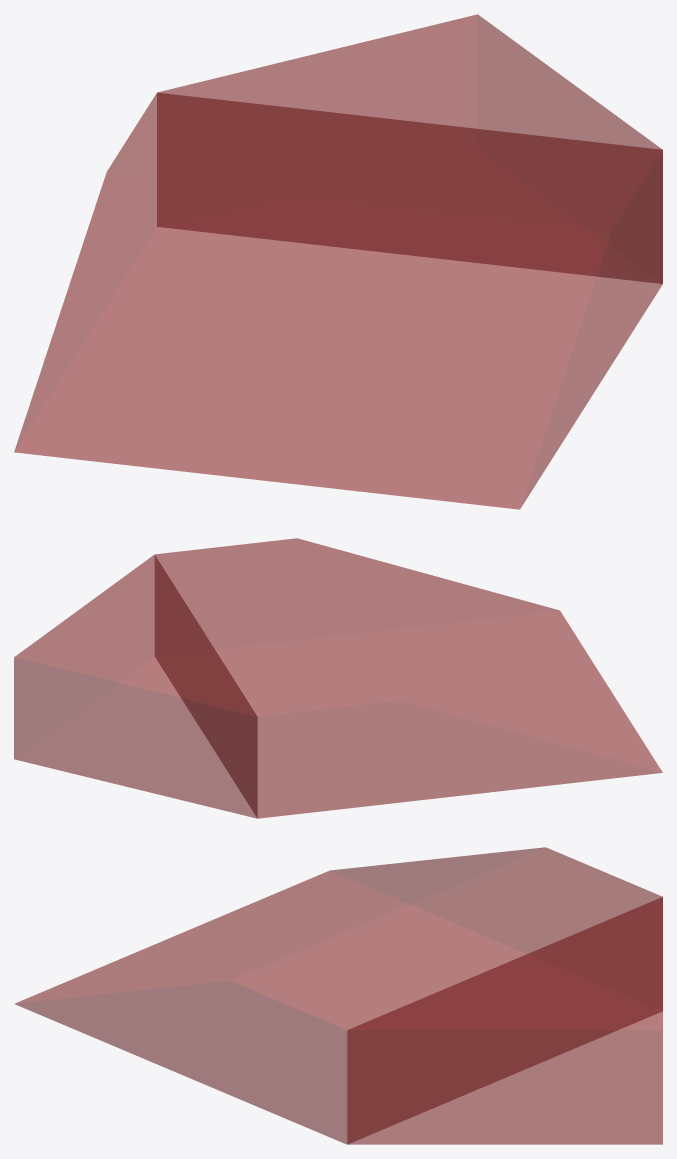
Rendered from SM_Bld_Steps_01_Angled_Inner_01_Collision.fbx.
3 renders of one model, top to bottom at view 1: azimuth 30°, elevation 25°; view 2: azimuth 150°, elevation 25°; view 3: azimuth 270°, elevation 25°, orthographic. The views are drawn at different scales.
Visible parts, largest first — view 1: SM_Bld_Steps_01_Angled_Inner_01_Collision; view 2: SM_Bld_Steps_01_Angled_Inner_01_Collision; view 3: SM_Bld_Steps_01_Angled_Inner_01_Collision.
Boxes of the visible parts, box(x1,y1,x2,y2) form: SM_Bld_Steps_01_Angled_Inner_01_Collision: box(14, 14, 662, 509); SM_Bld_Steps_01_Angled_Inner_01_Collision: box(14, 538, 662, 818); SM_Bld_Steps_01_Angled_Inner_01_Collision: box(15, 847, 662, 1144).
Bounding box in the file's own units: 514 × 100 × 514.
